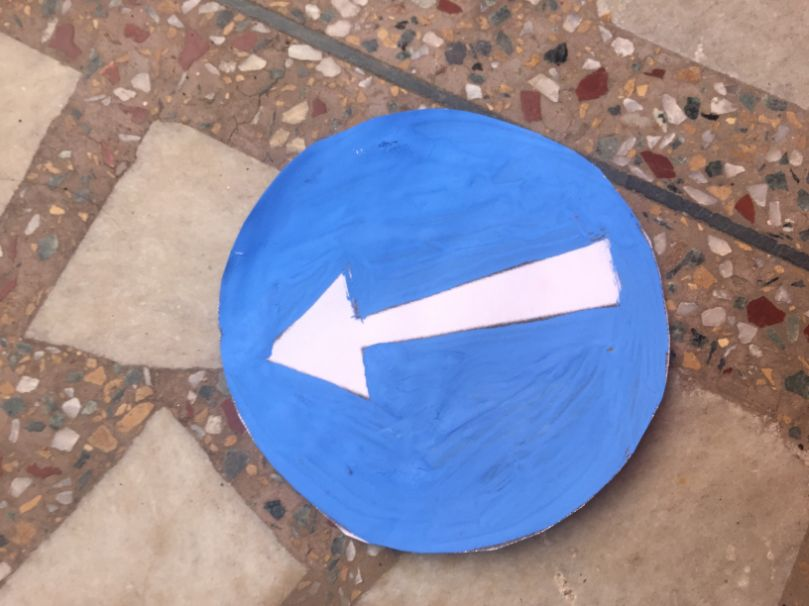keep-left: (218, 108, 671, 557)
